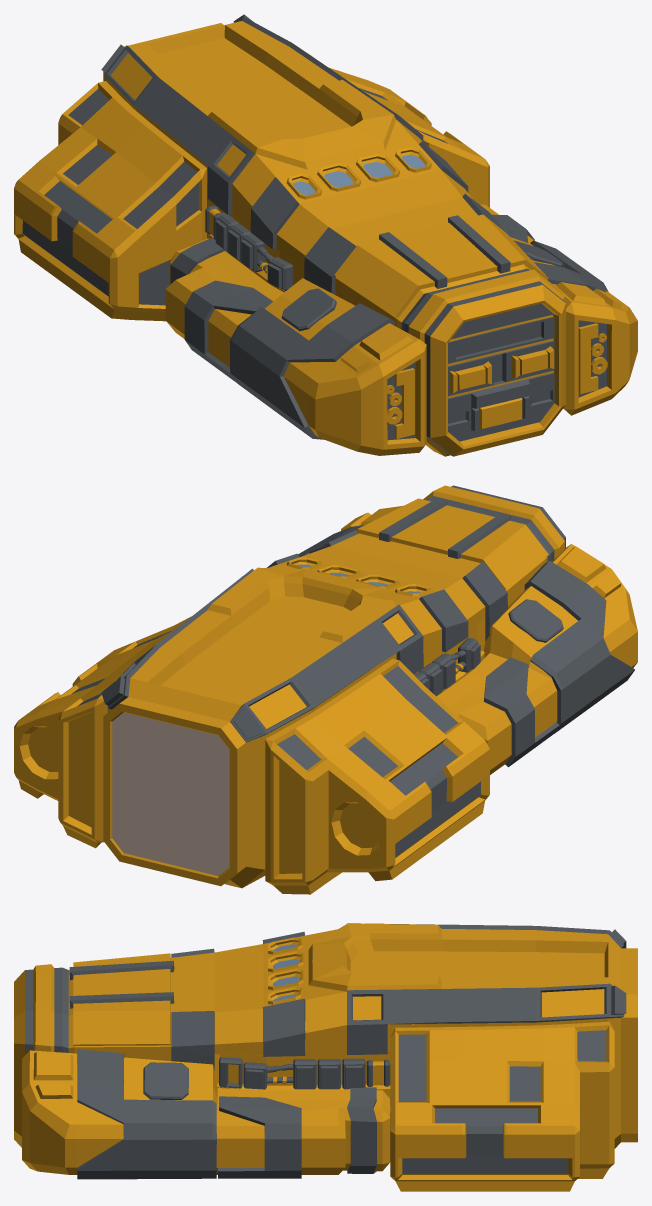
File: Mothership_01_Body_Yellow.fbx
The picture shows the model from 3 angles, top to bottom: view 1: azimuth 30°, elevation 25°; view 2: azimuth 150°, elevation 25°; view 3: azimuth 270°, elevation 25°; orthographic projection. The views are drawn at different scales.
Parts seen in each view (by area): view 1: Mothership_01_Body_Yellow; view 2: Mothership_01_Body_Yellow; view 3: Mothership_01_Body_Yellow.
Part boxes in pixels (bbox=[...]): Mothership_01_Body_Yellow: bbox=[14, 14, 637, 456]; Mothership_01_Body_Yellow: bbox=[14, 485, 637, 894]; Mothership_01_Body_Yellow: bbox=[14, 923, 637, 1191].
Bounding box in the file's own units: 4176 × 2023 × 6353.
3 materials, 3 textured.
